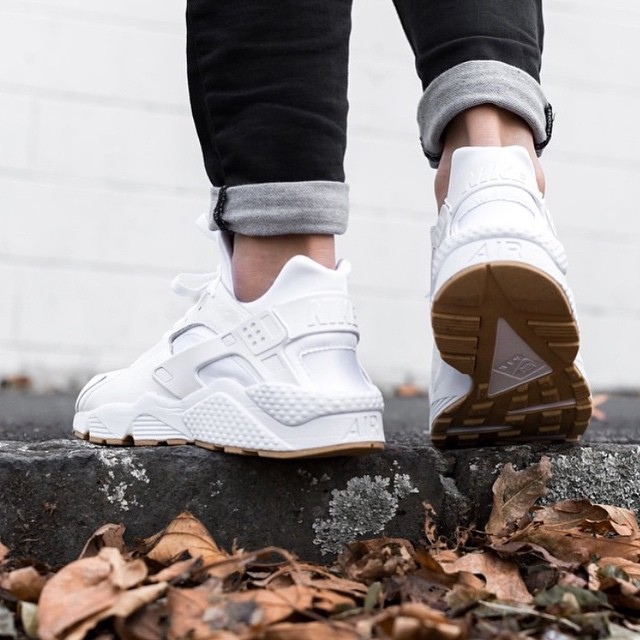sneaker: (55, 203, 407, 473), (408, 83, 598, 460)
